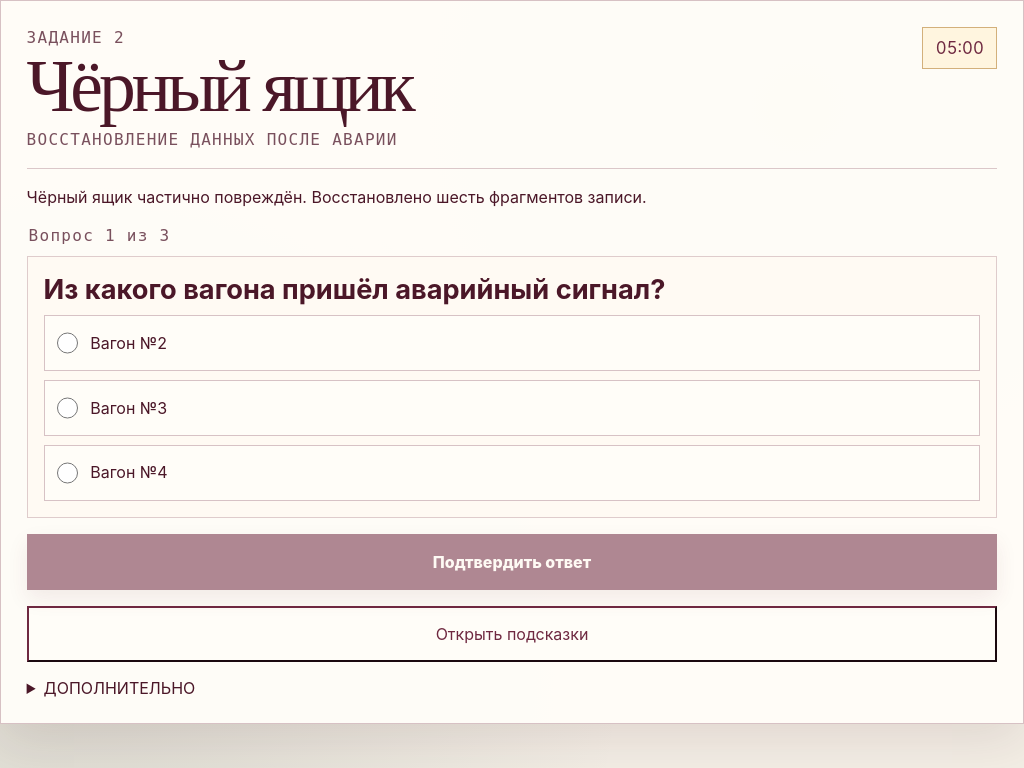
MissionTwoPlayer › shows one question at a time, advances after a confirmed answer, and keeps the evidence in a hint drawer
Expected: the heading "Из какого вагона пришёл аварийный сигнал?" is shown, [44, 274, 665, 306]
Expected: the heading "Какое действие произошло непосредственно перед сбоем?" is not shown
Click the button "Открыть подсказки" at (512, 634), box [27, 606, 997, 662]
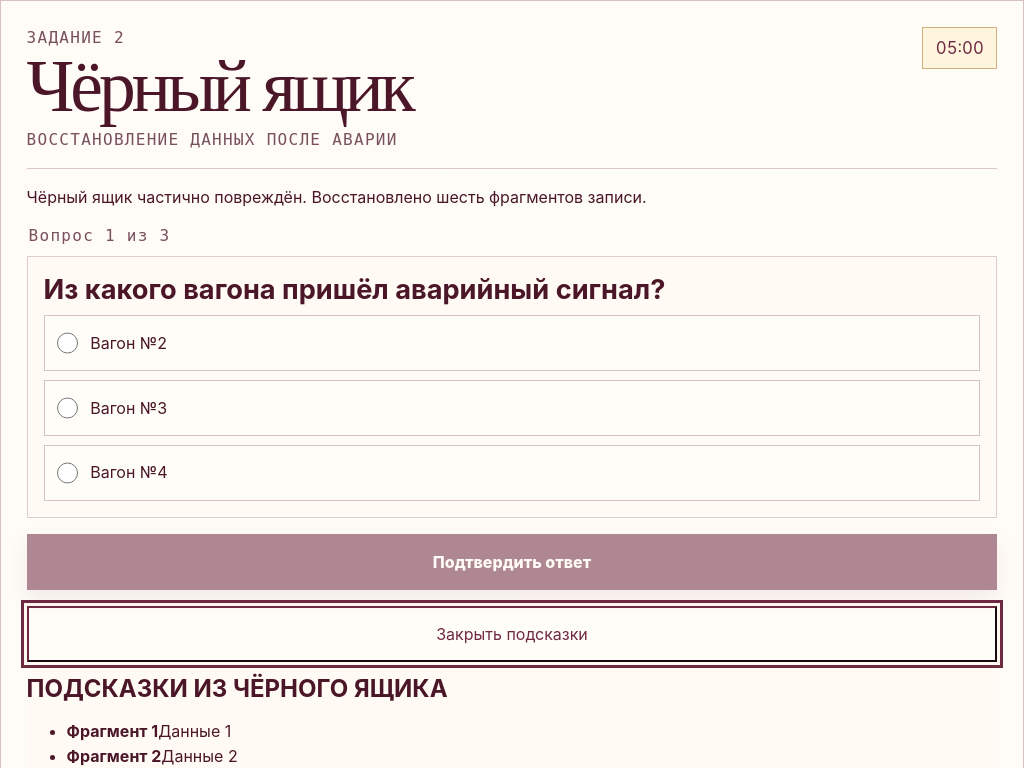
Result: the element "ПОДСКАЗКИ ИЗ ЧЁРНОГО ЯЩИКА" shows "Данные 1" at [158, 721, 231, 741]
Click the radio button labelled "Вагон №4" at (67, 473), box [57, 462, 78, 484]
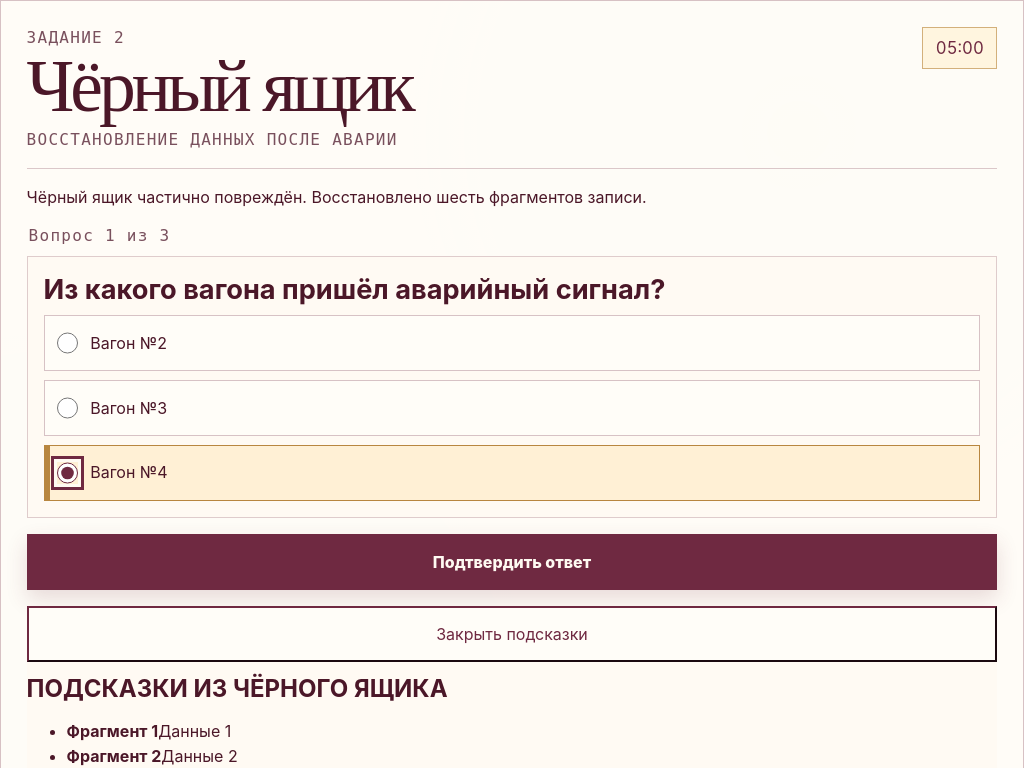
Click the button "Подтвердить ответ" at (512, 562), box [27, 534, 997, 590]
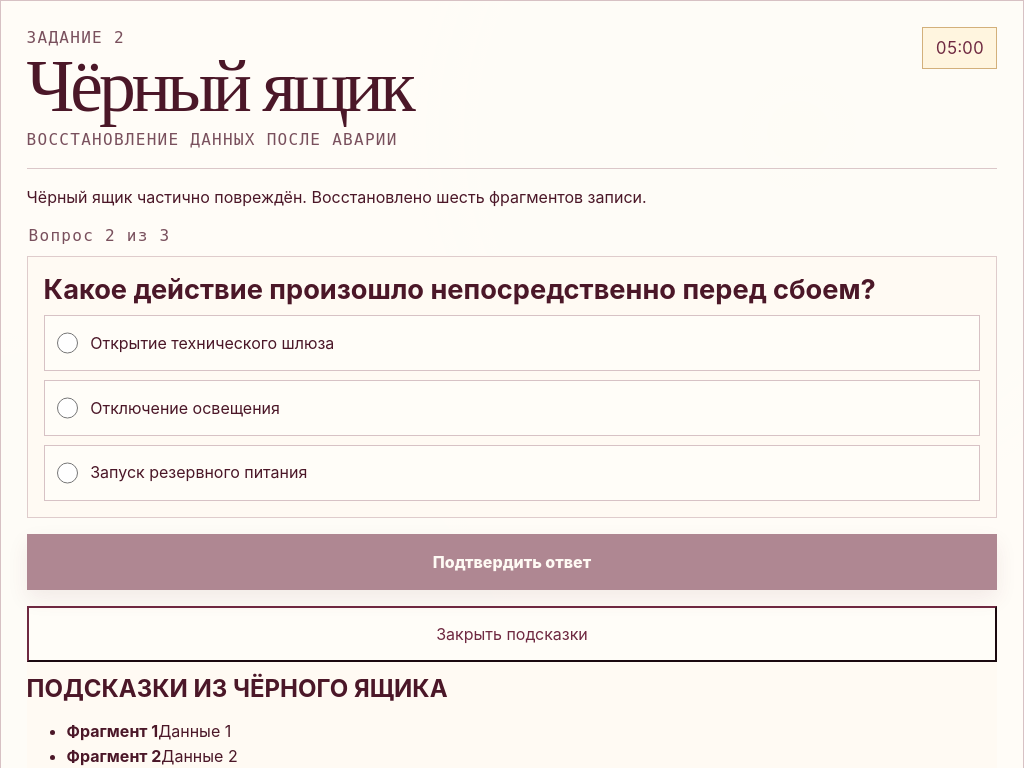
Result: the heading "Какое действие произошло непосредственно перед сбоем?" is shown at [44, 274, 980, 306]
Result: the heading "Из какого вагона пришёл аварийный сигнал?" is gone
